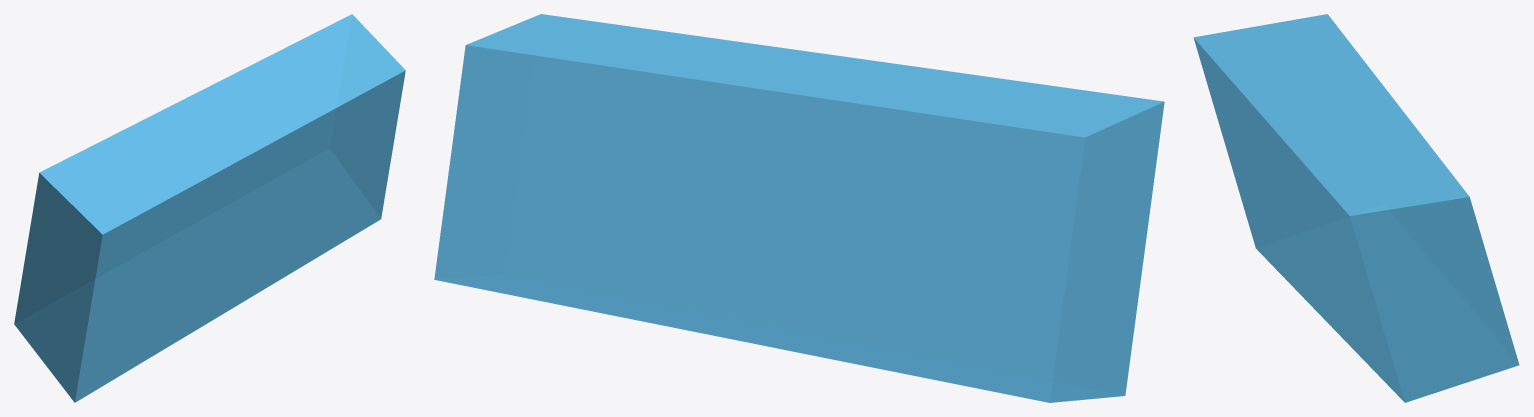
Rendered from Event_420094457_HErechit_8.fbx.
3 views of the same model, side by side, from view 1: azimuth 30°, elevation 25°; view 2: azimuth 150°, elevation 25°; view 3: azimuth 270°, elevation 25° (orthographic). The views are drawn at different scales.
Parts seen in each view (by area): view 1: Model; view 2: Model; view 3: Model.
Part boxes in pixels (box(x1,y1,x2,y2)): Model: box(14, 14, 405, 402); Model: box(434, 14, 1164, 402); Model: box(1193, 14, 1519, 402).
Bounding box in the file's own units: 1.33 × 0.7703 × 0.8917.
